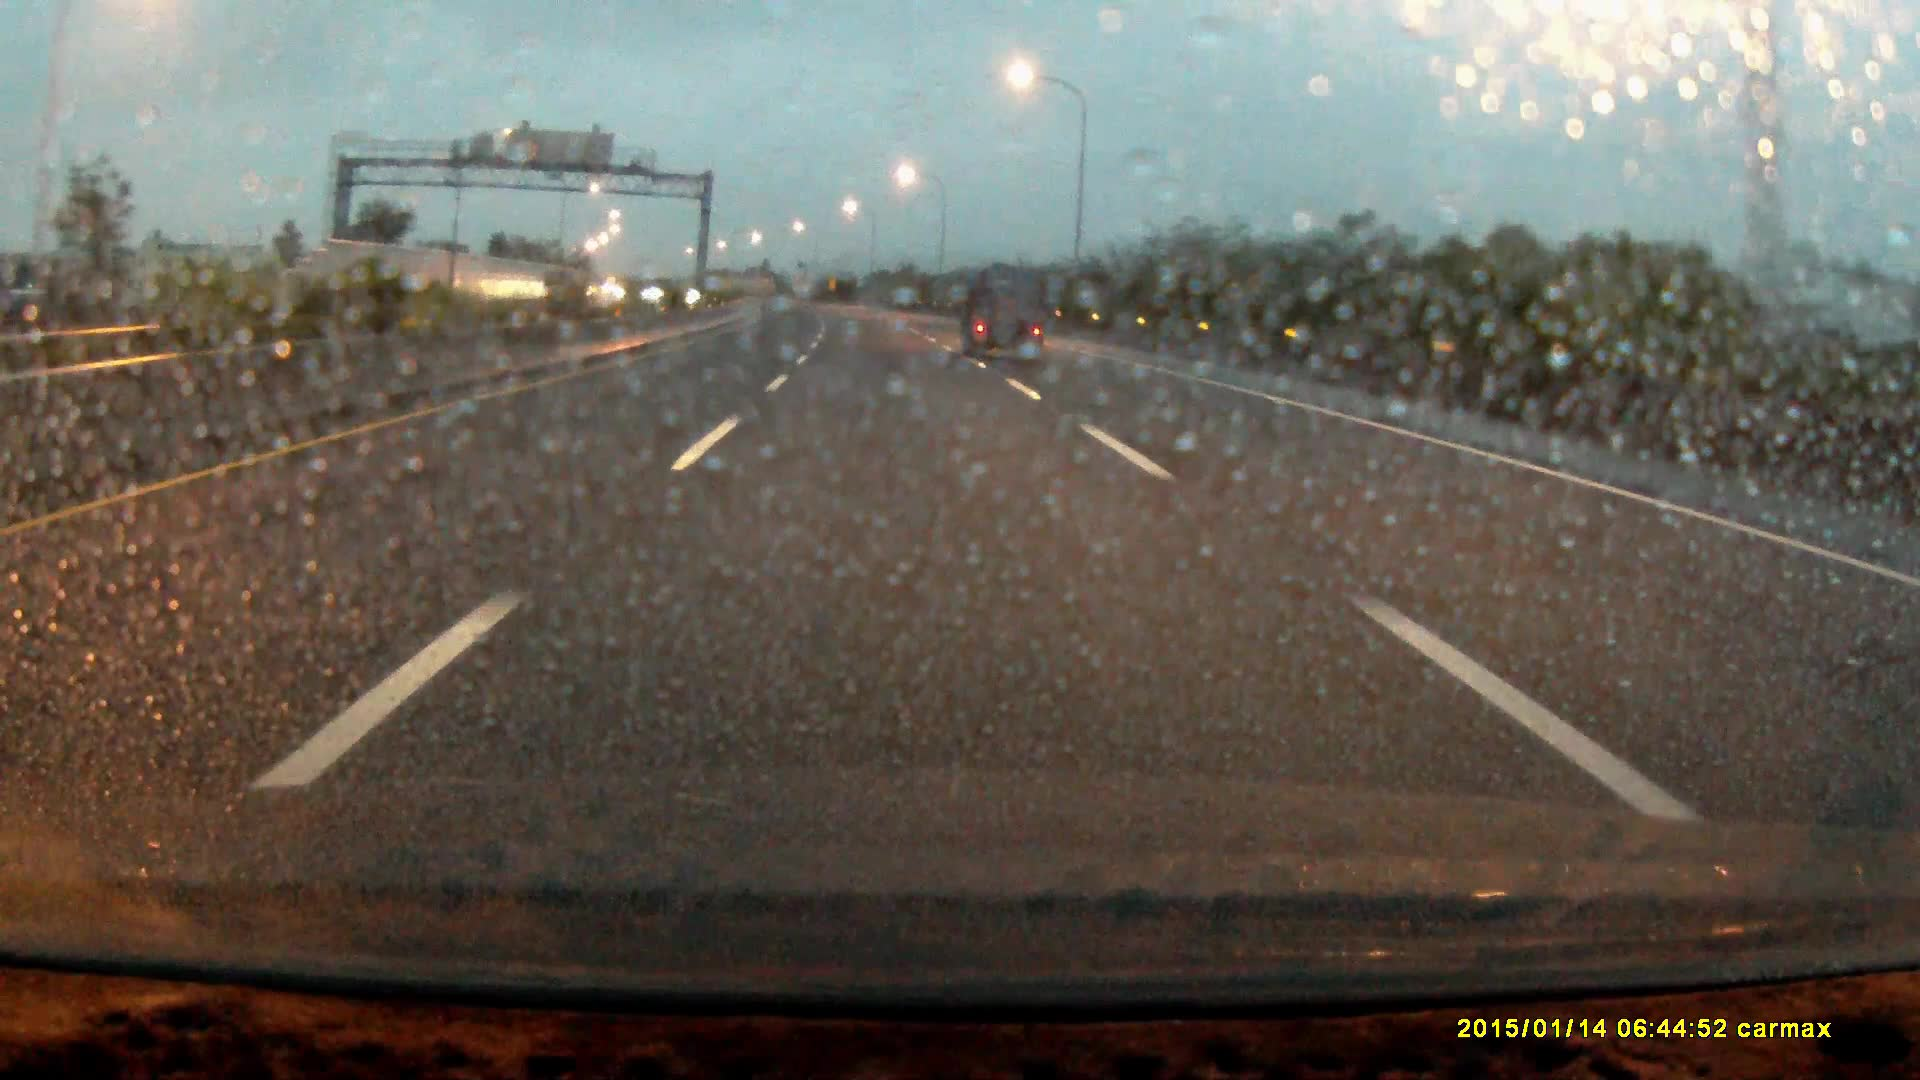vehicle: (967, 273, 1054, 363), (541, 269, 593, 309)
